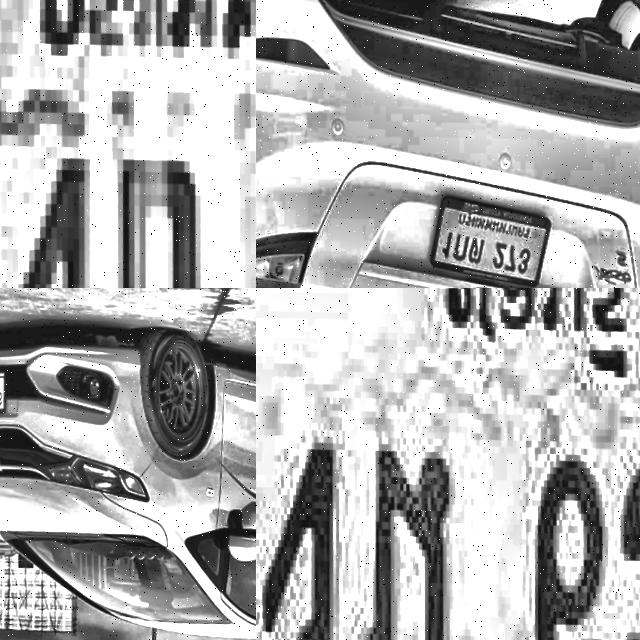license-plate: (256, 288, 640, 640), (0, 0, 256, 288), (413, 190, 556, 288), (0, 366, 12, 424)
